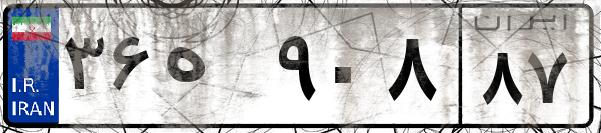0: (330, 28, 385, 110)
3: (57, 26, 110, 100)
6: (110, 28, 158, 98)
7: (525, 38, 570, 115)
8: (385, 28, 445, 110), (475, 38, 525, 113)
9: (270, 28, 330, 110)
ه: (158, 20, 270, 120)
